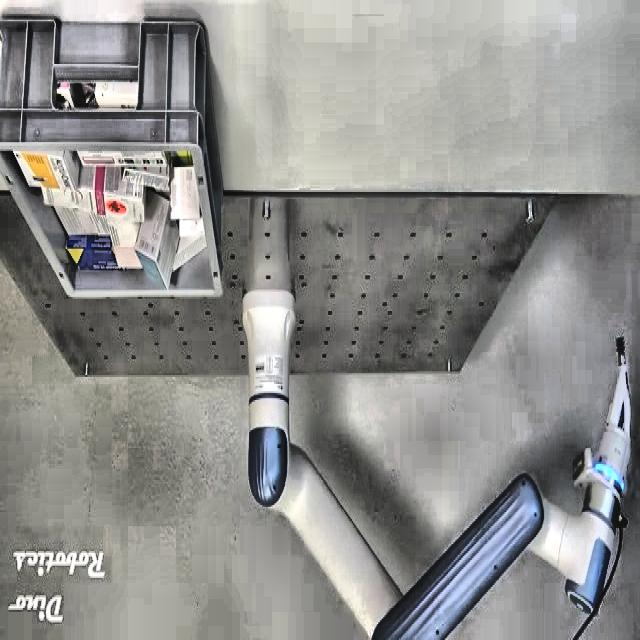robot: (242, 290, 633, 640)
